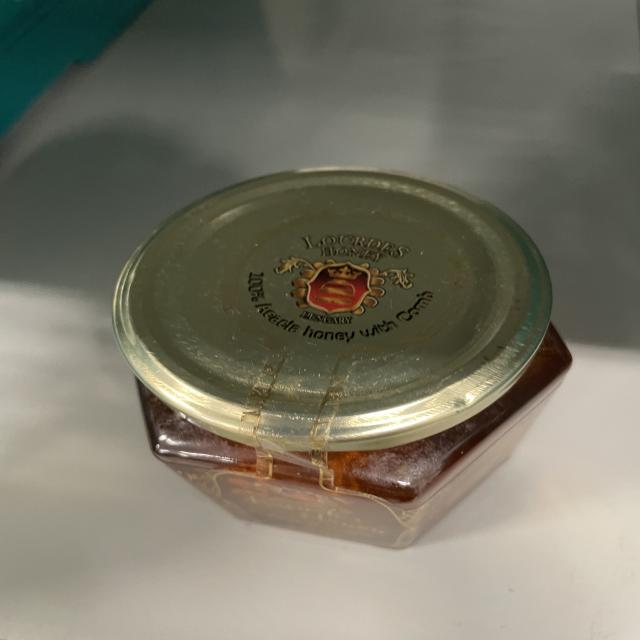object_name: (134, 175, 569, 547)
